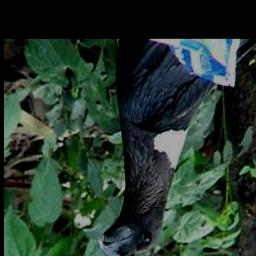Crow: (97, 41, 228, 256)
